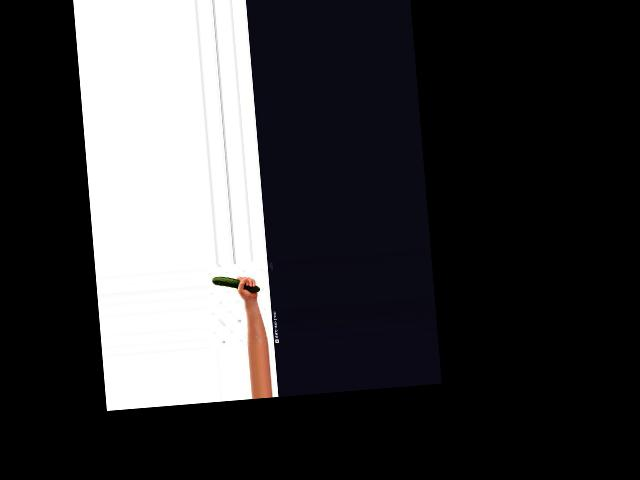cucumber: (212, 273, 260, 294)
